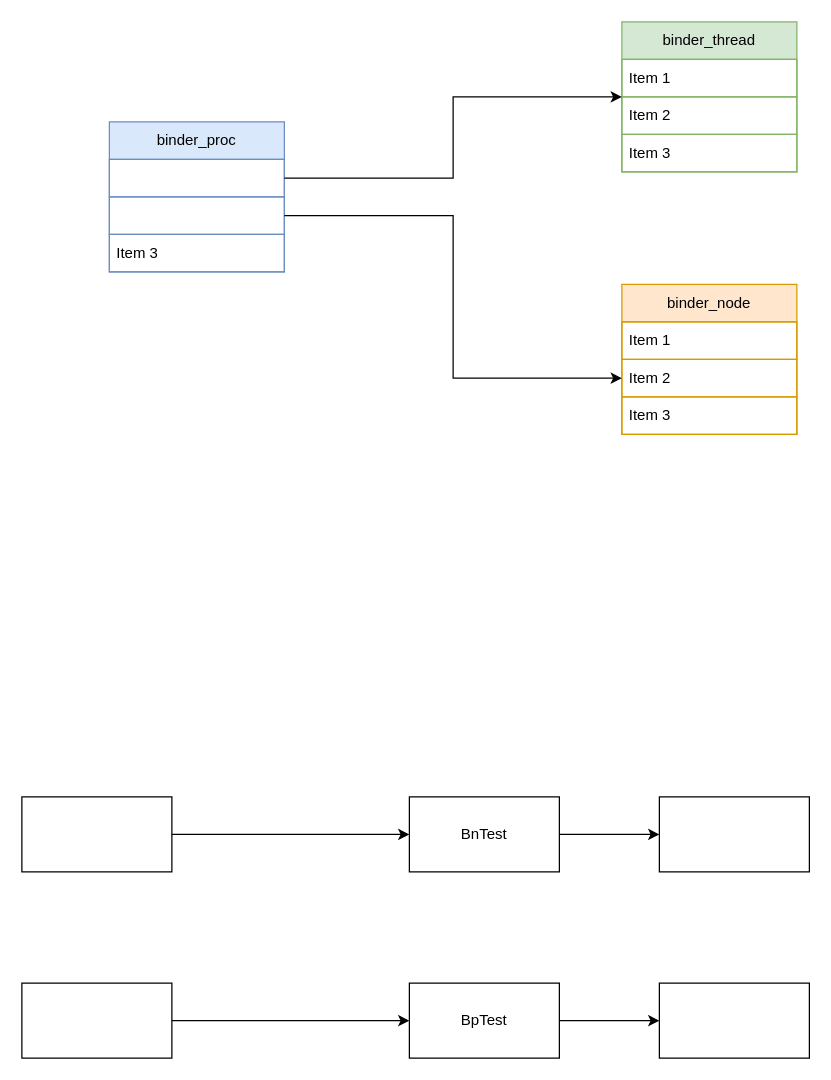
This 831x1080 diagram has some shape labels left out. Each missing label, with the centre of its shape:
BBinder: point (733, 834)
BpRefBase: point (733, 1020)
proc_node: point (196, 177)
TestClient: point (96, 1020)
TestService: point (96, 834)
threads: point (196, 215)
